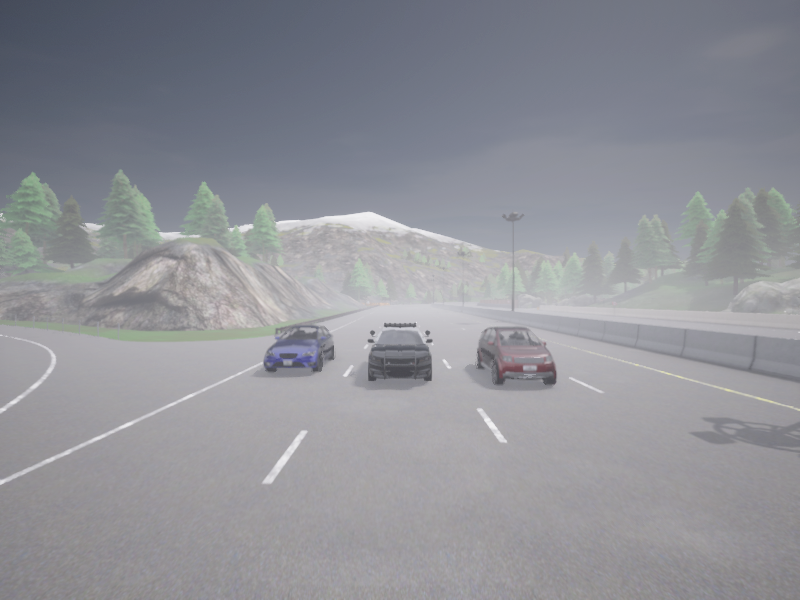vehicle: (476, 326, 556, 384), (368, 323, 432, 380), (263, 325, 334, 372)
